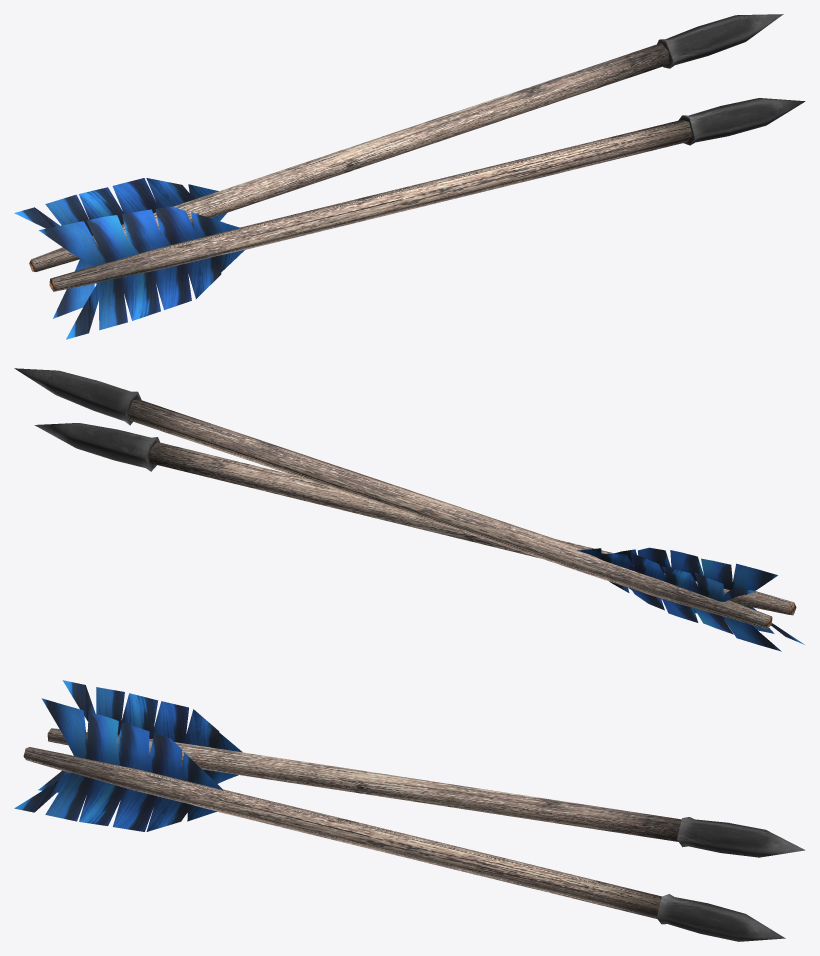
The model's file is Crossbow_Bolts.fbx.
3 renders of one model, top to bottom at view 1: azimuth 30°, elevation 25°; view 2: azimuth 150°, elevation 25°; view 3: azimuth 330°, elevation 25°, orthographic.
Visible parts, largest first — view 1: Cylinder002; view 2: Cylinder002; view 3: Cylinder002.
Part boxes in pixels (box(x1,y1,x2,y2)): Cylinder002: box(14, 14, 805, 339); Cylinder002: box(14, 368, 804, 651); Cylinder002: box(14, 680, 805, 941).
Size of the model in its own units: 399 by 63.03 by 48.13.
